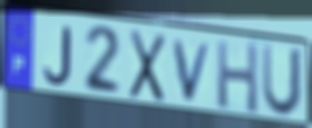2: (83, 24, 123, 96)
H: (215, 38, 260, 117)
J: (42, 25, 73, 88)
U: (260, 42, 305, 121)
V: (171, 38, 214, 105)
X: (128, 27, 168, 105)
